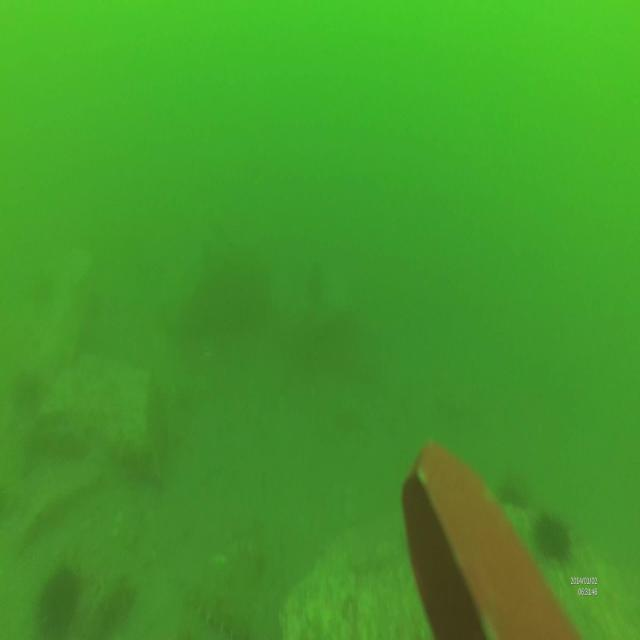echinus: (34, 556, 83, 638), (534, 508, 572, 568), (497, 464, 529, 516)
holothurian: (186, 578, 252, 640)
